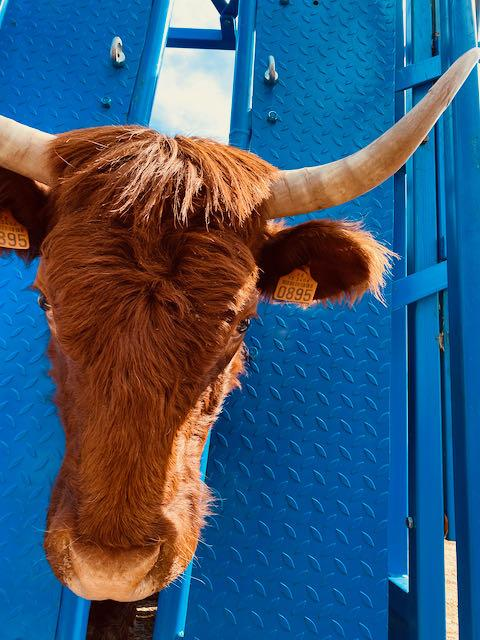muzzles: (45, 522, 174, 610)
